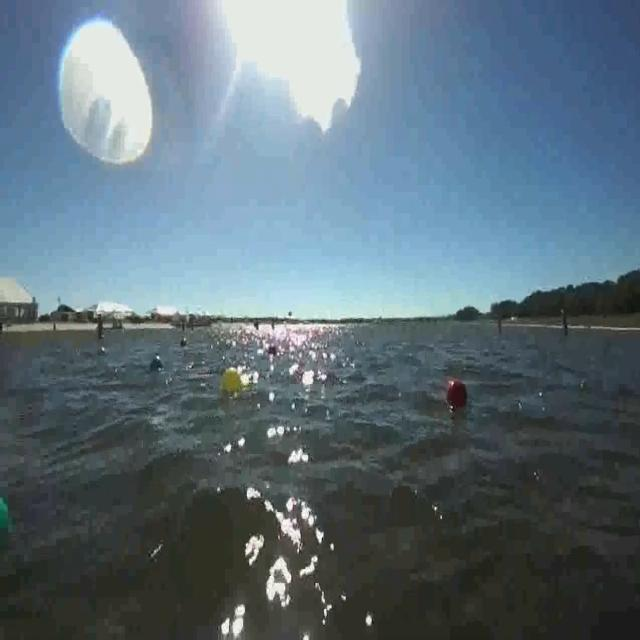green-buoy: (0, 493, 10, 531)
red-buoy: (444, 375, 466, 407)
yellow-buoy: (220, 364, 243, 395)
